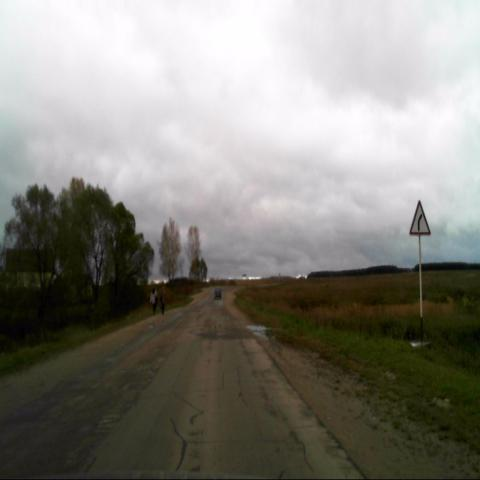1_11: (410, 199, 431, 235)
